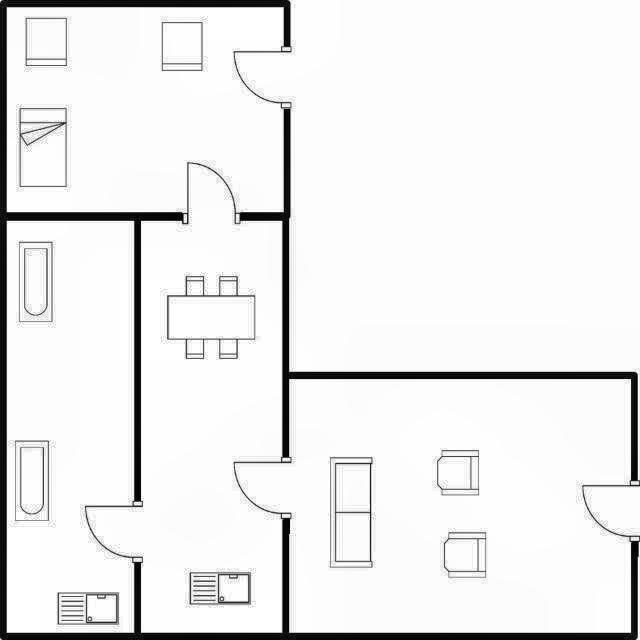room: (289, 379, 631, 633), (141, 221, 282, 633), (7, 7, 284, 212), (7, 221, 134, 633)
